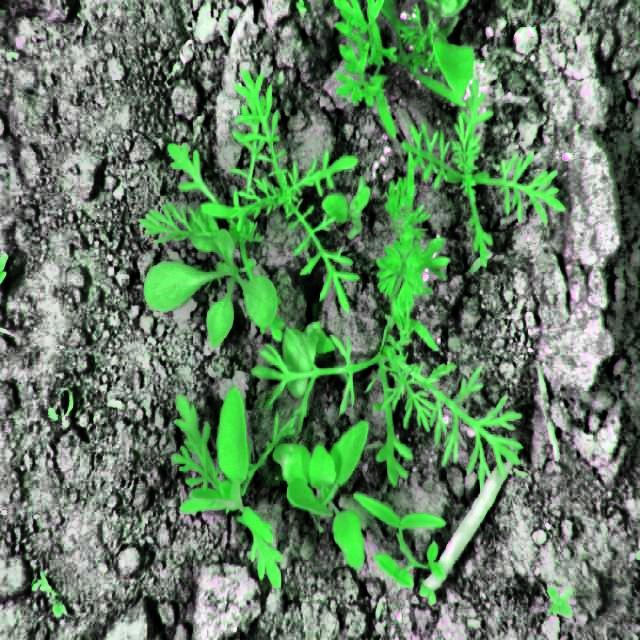Weeds: (178, 377, 282, 586), (142, 212, 276, 350), (273, 416, 373, 568), (351, 489, 452, 608), (546, 587, 573, 616)
undefined: (242, 241, 539, 488), (202, 60, 370, 309), (397, 72, 567, 270), (323, 0, 408, 140)
